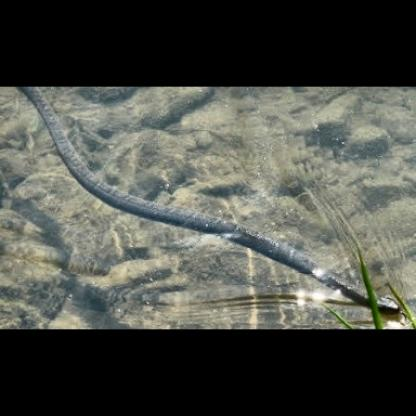Snake: (78, 155, 404, 322)
